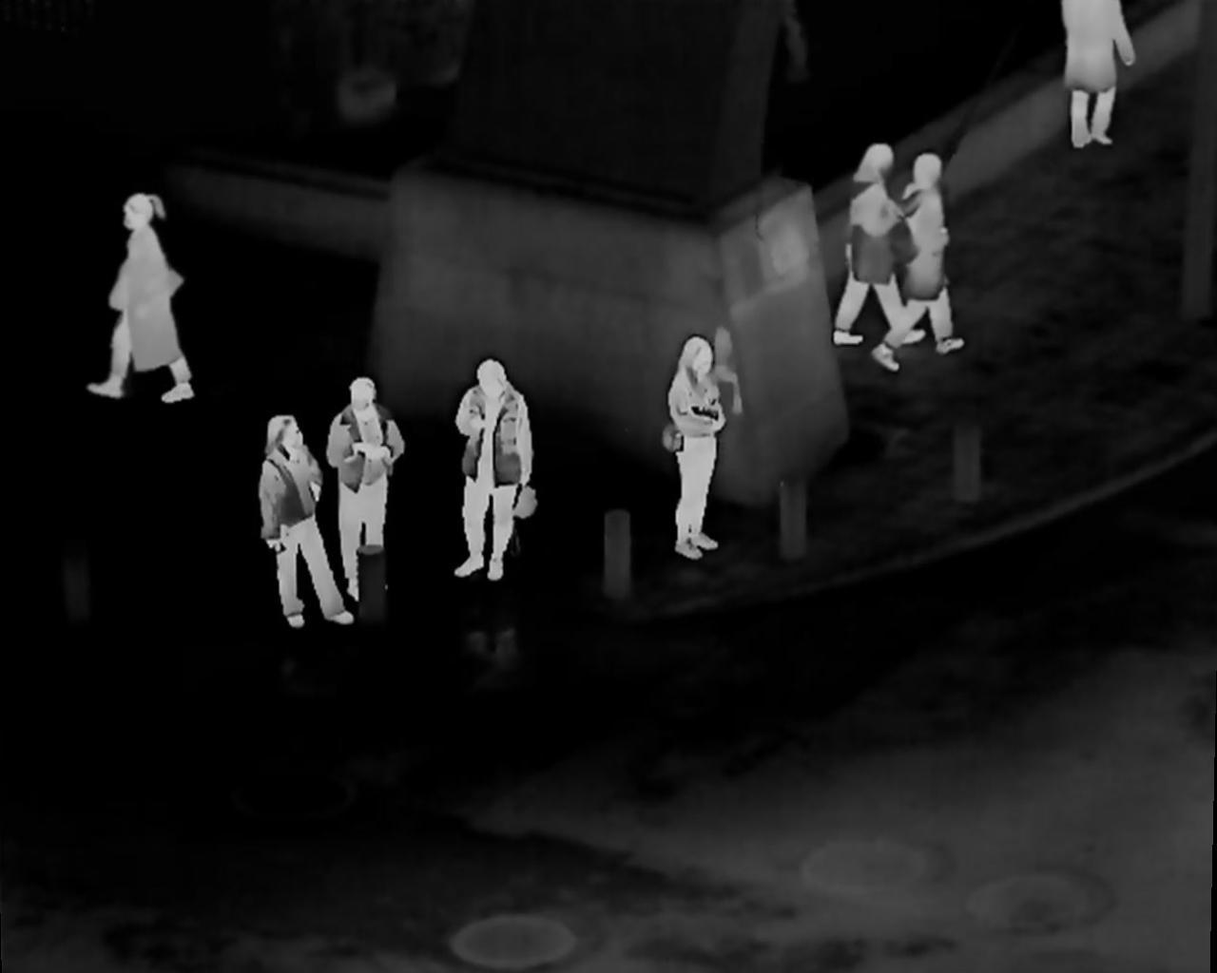person: (89, 195, 199, 410), (252, 414, 355, 623), (872, 153, 961, 383), (454, 360, 538, 590), (831, 143, 913, 350), (669, 337, 724, 566), (337, 374, 391, 599)
